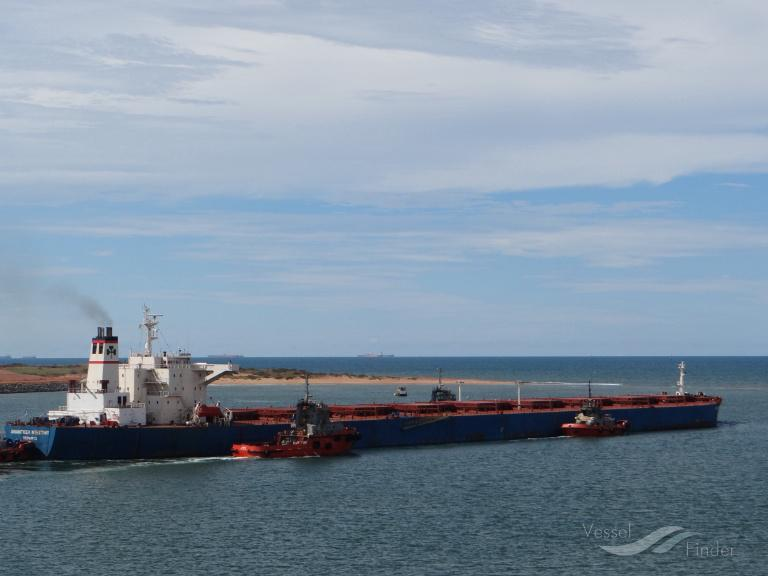OCR: (9, 425, 53, 444)
